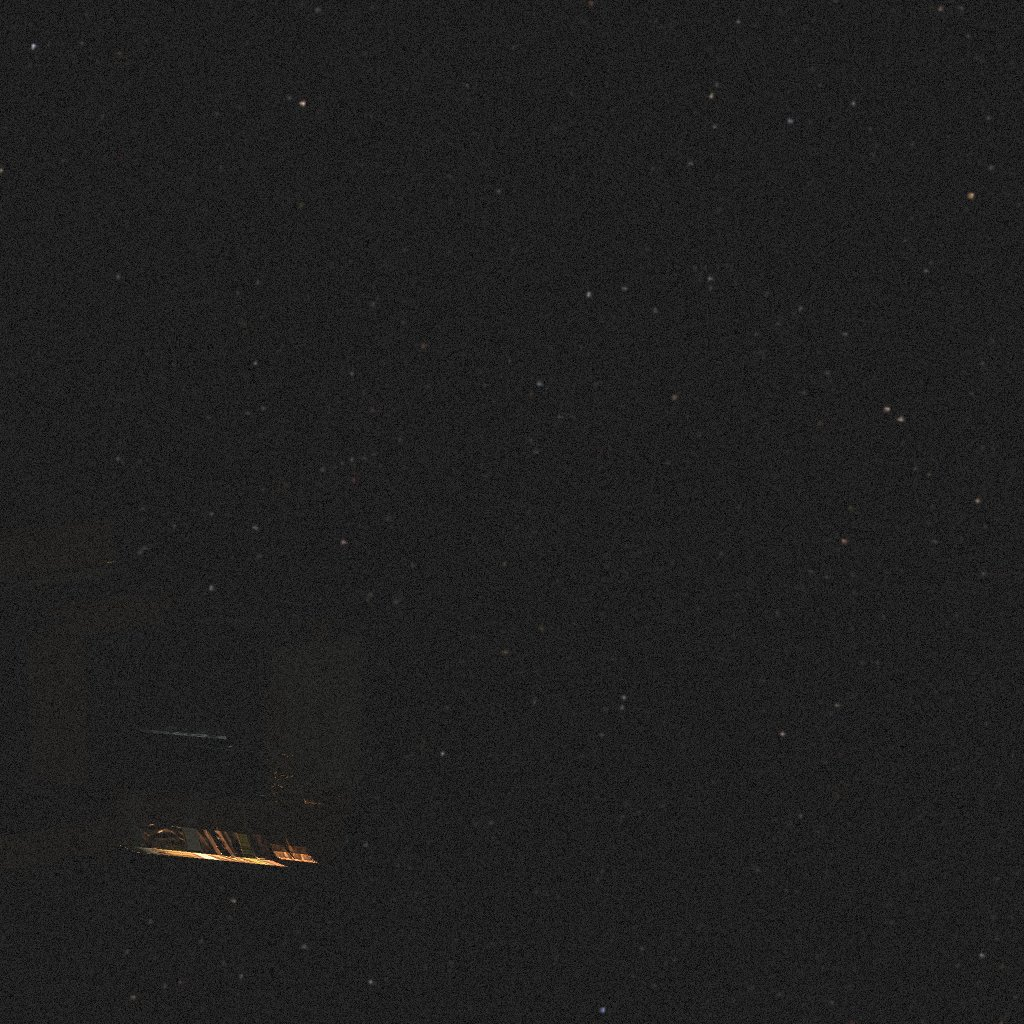soho: (0, 173, 378, 1024)
